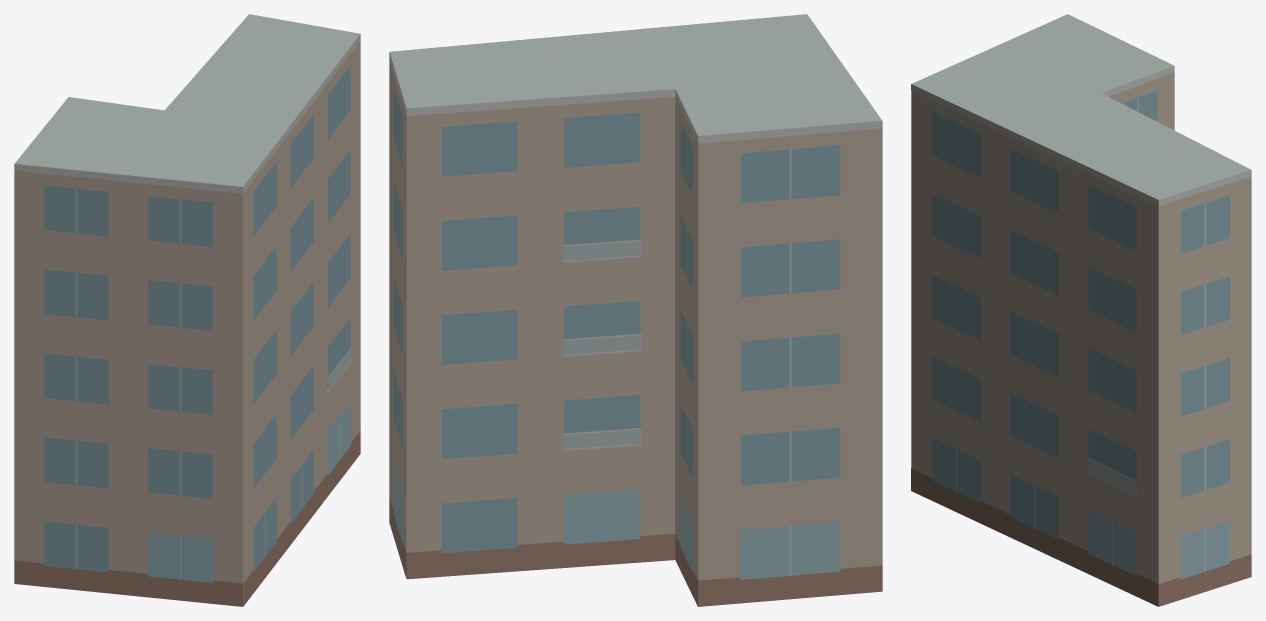
Rendered from survey-upis-32921964.glb.
The picture shows the model from 3 angles, left to right: view 1: azimuth 30°, elevation 25°; view 2: azimuth 150°, elevation 25°; view 3: azimuth 270°, elevation 25°; orthographic projection. The views are drawn at different scales.
Parts seen in each view (by area): view 1: survey-upis-32921964.tmp; view 2: survey-upis-32921964.tmp; view 3: survey-upis-32921964.tmp.
Part boxes in pixels (x1,y1,x2,y2): survey-upis-32921964.tmp: (14, 14, 360, 606); survey-upis-32921964.tmp: (389, 14, 882, 606); survey-upis-32921964.tmp: (911, 14, 1251, 606).
Size of the model in its own units: 14.94 by 15.25 by 11.57.
